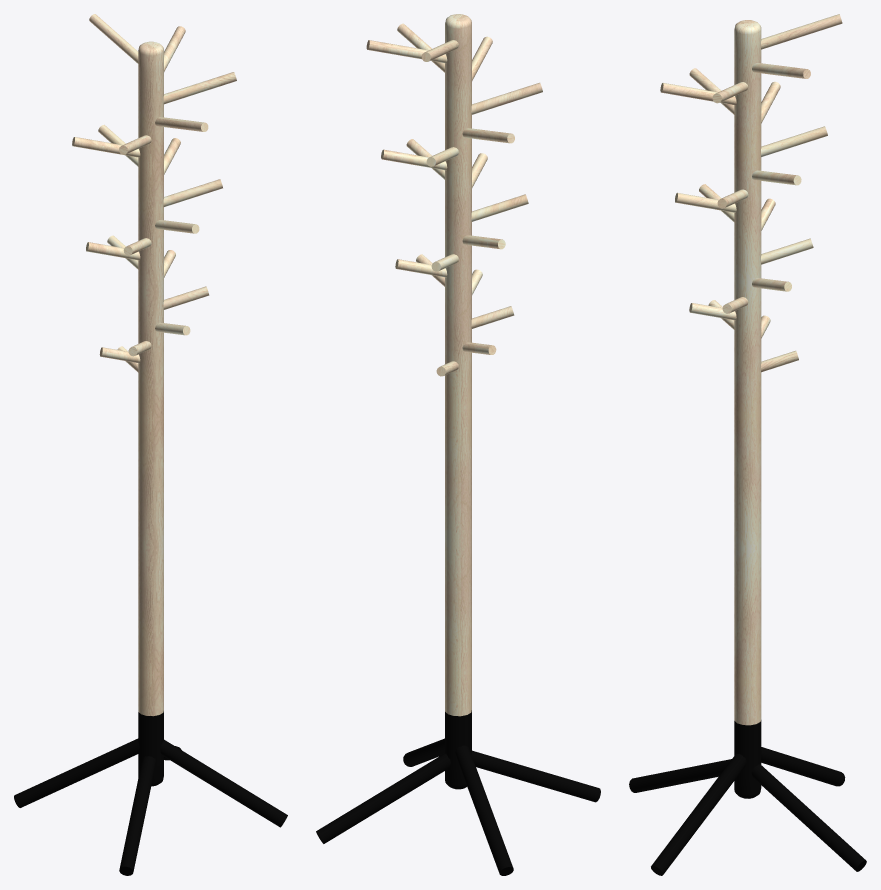
The model's file is AlvarAalto106.obj.
3 renders of one model, left to right at view 1: azimuth 30°, elevation 25°; view 2: azimuth 150°, elevation 25°; view 3: azimuth 270°, elevation 25°, orthographic. The views are drawn at different scales.
Visible parts, largest first — view 1: AA106; view 2: AA106; view 3: AA106.
Boxes of the visible parts, bbox=[...] form: AA106: bbox=[14, 14, 287, 875]; AA106: bbox=[316, 14, 600, 875]; AA106: bbox=[629, 14, 866, 875].
Size of the model in its own units: 450 by 1764 by 469.
Materials: 2 (1 with a texture image).
